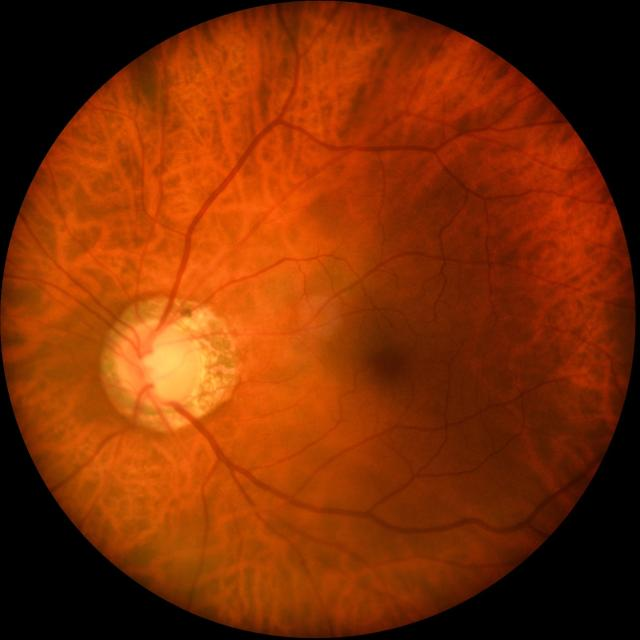OC: (134, 334, 190, 400)
OD: (113, 319, 201, 409)
